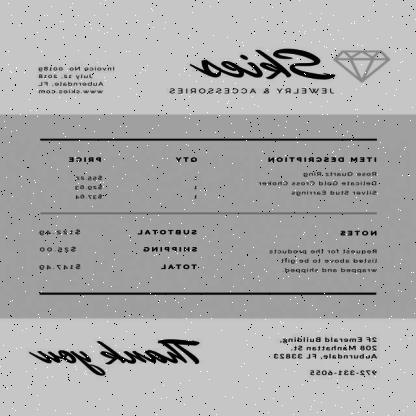Paragraph: (168, 46, 338, 96), (36, 226, 201, 273), (27, 337, 202, 378), (267, 228, 379, 276), (272, 334, 381, 378), (35, 64, 116, 96)
Table: (40, 138, 380, 214)
